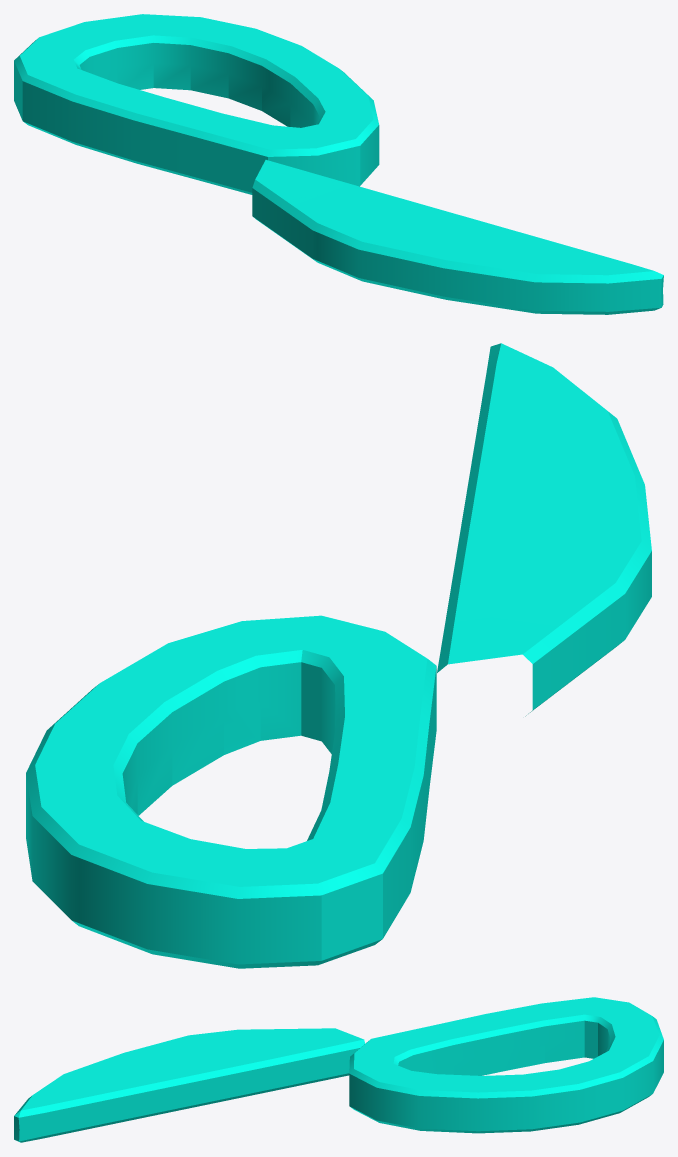
The model's file is ScissorsFirstModel.glb.
The picture shows the model from 3 angles, top to bottom: view 1: azimuth 30°, elevation 25°; view 2: azimuth 150°, elevation 25°; view 3: azimuth 270°, elevation 25°; orthographic projection. The views are drawn at different scales.
Parts seen in each view (by area): view 1: ScissorsFirstModel; view 2: ScissorsFirstModel; view 3: ScissorsFirstModel.
Part boxes in pixels (<box>): ScissorsFirstModel: <box>14,14,663,314</box>; ScissorsFirstModel: <box>26,343,651,968</box>; ScissorsFirstModel: <box>14,997,663,1142</box>.
Bounding box in the file's own units: 0.7333 × 0.1224 × 1.76.
